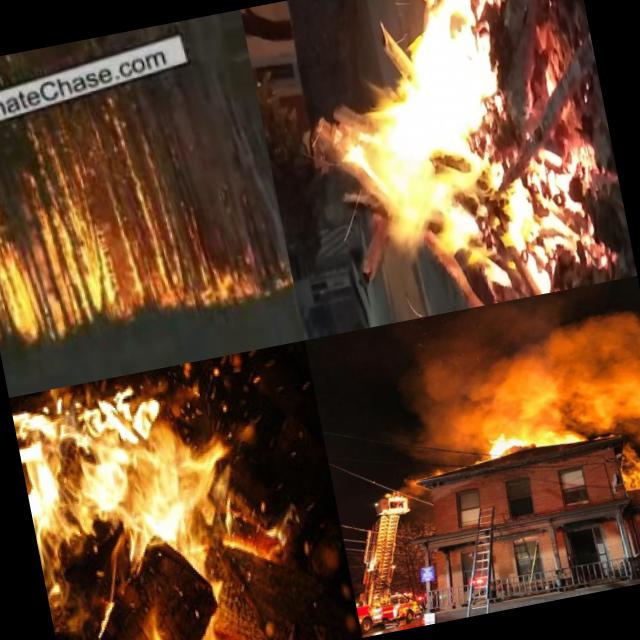fire: (256, 49, 503, 340), (11, 367, 271, 640), (0, 119, 280, 356), (465, 408, 591, 470), (607, 441, 640, 496)
smoke: (368, 278, 640, 460)
